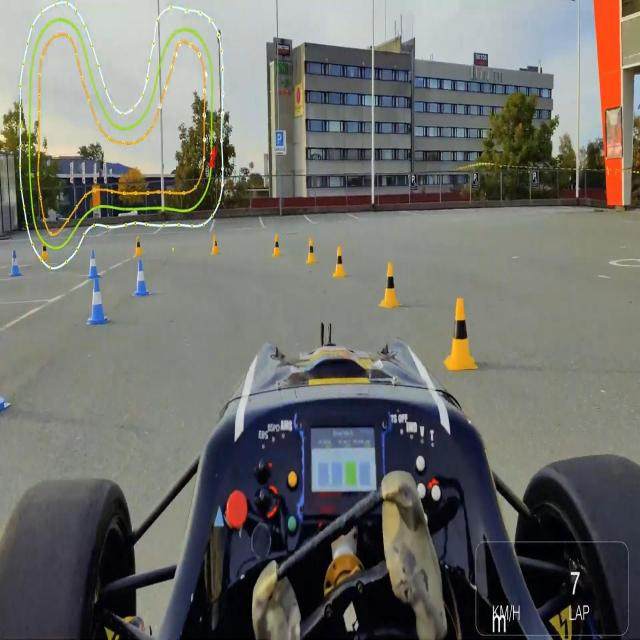blue_cone: (87, 277, 108, 328), (133, 260, 148, 299), (87, 249, 100, 278), (10, 249, 22, 278)
yellow_cone: (445, 298, 475, 370), (380, 262, 399, 308), (332, 245, 347, 278), (306, 238, 318, 266), (272, 233, 282, 259), (40, 239, 49, 263), (134, 236, 143, 258), (210, 236, 220, 255)
